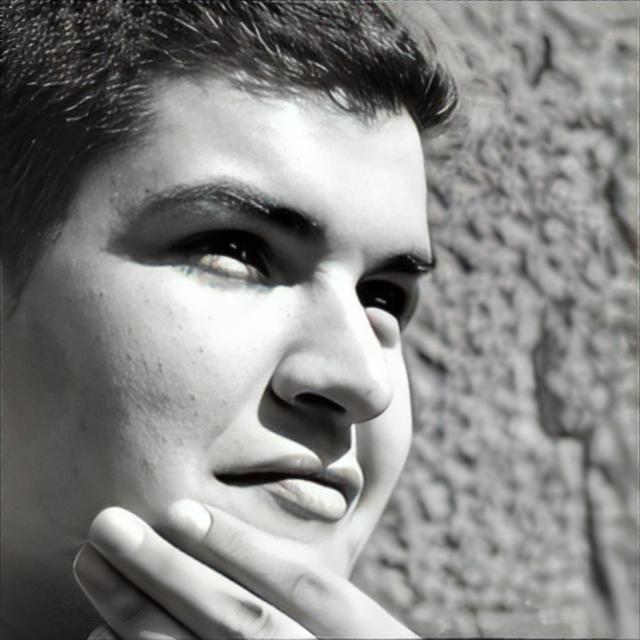neutral: (44, 78, 441, 596)
